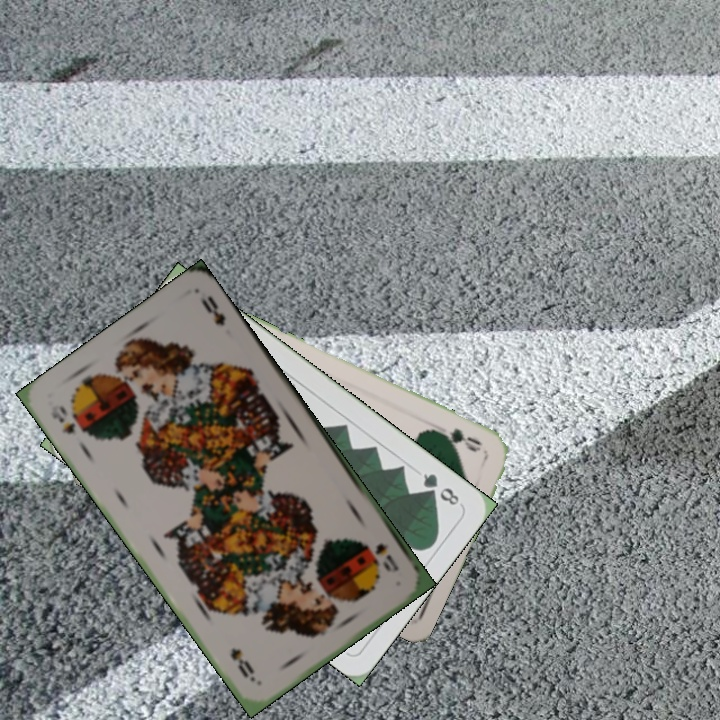G8: (418, 469, 462, 509)
GO: (432, 424, 486, 455)
SO: (46, 400, 88, 438), (371, 539, 402, 574)
